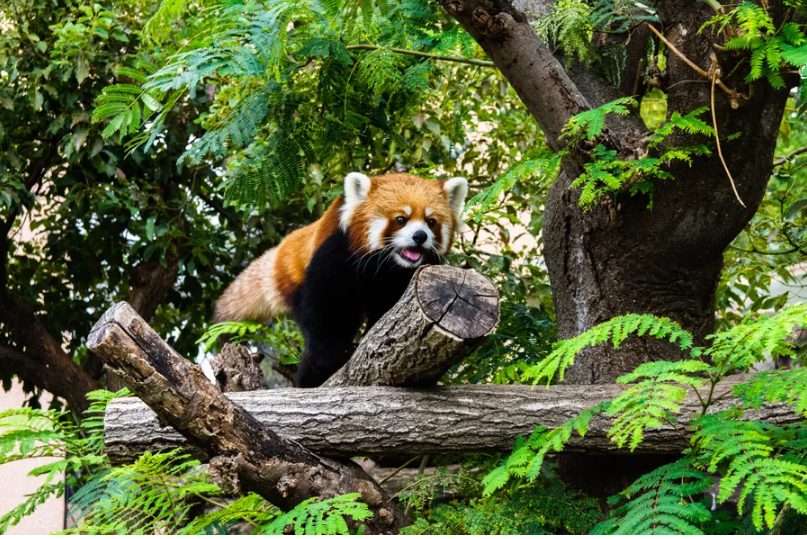red_panda: (209, 172, 477, 348)
